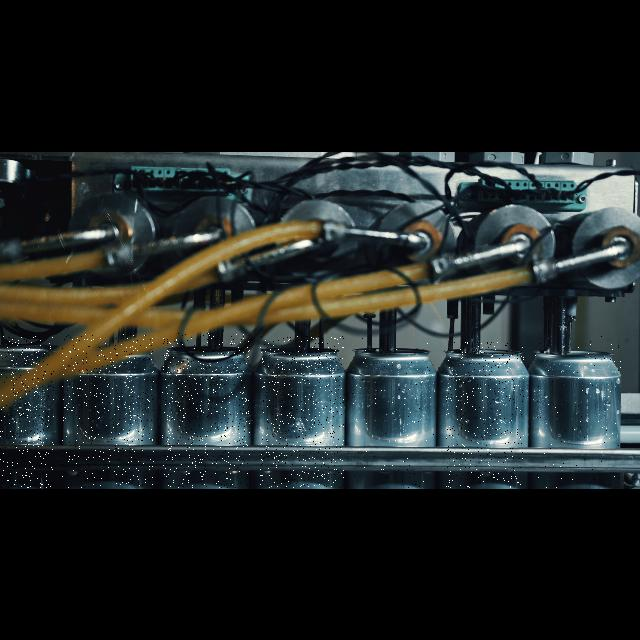empty: (62, 334, 154, 488), (162, 332, 250, 488), (535, 336, 621, 488), (260, 336, 344, 488), (352, 336, 436, 488), (446, 342, 524, 488), (0, 336, 54, 488)
